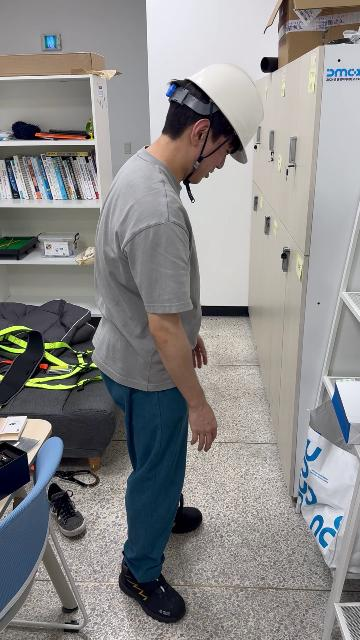helmet_worn: (182, 63, 263, 158)
shoe_not_worn: (46, 483, 86, 537)
shoe_worn: (119, 555, 185, 624), (172, 491, 202, 534)
vest_not_worn: (93, 149, 200, 393)
vest_worn: (0, 327, 100, 392)
